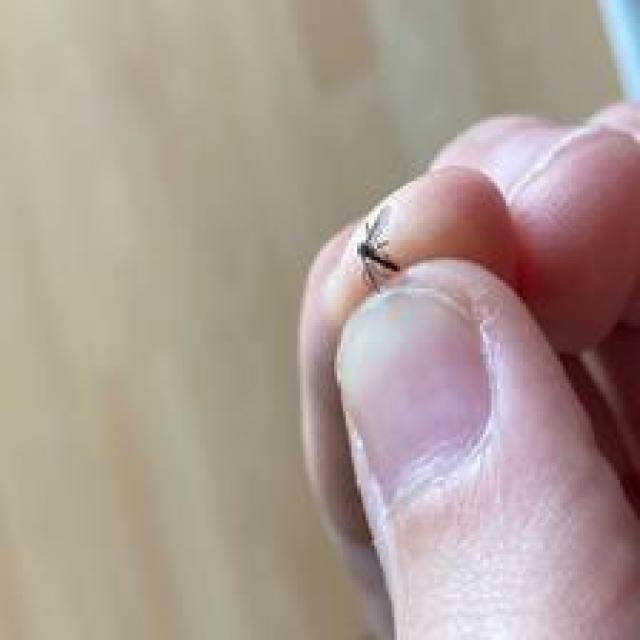Aedes albopictus: (354, 204, 403, 296)
